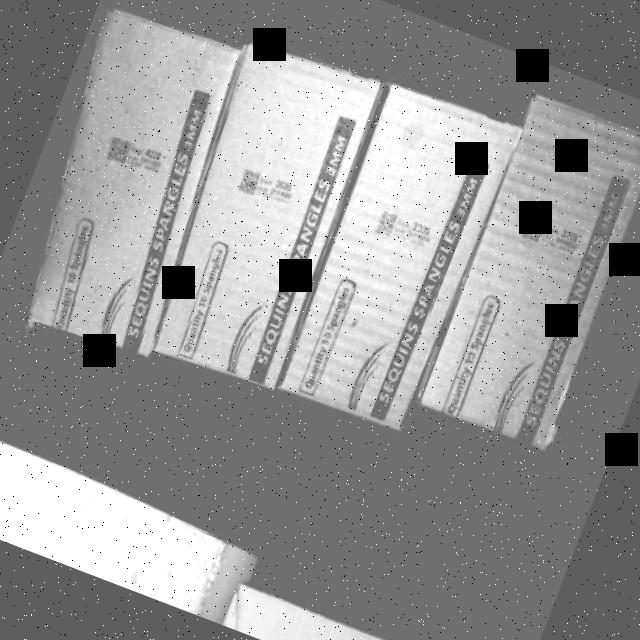box: (131, 39, 398, 403), (0, 5, 261, 364), (280, 86, 520, 434), (421, 92, 640, 457), (132, 342, 148, 350), (252, 38, 255, 40)
